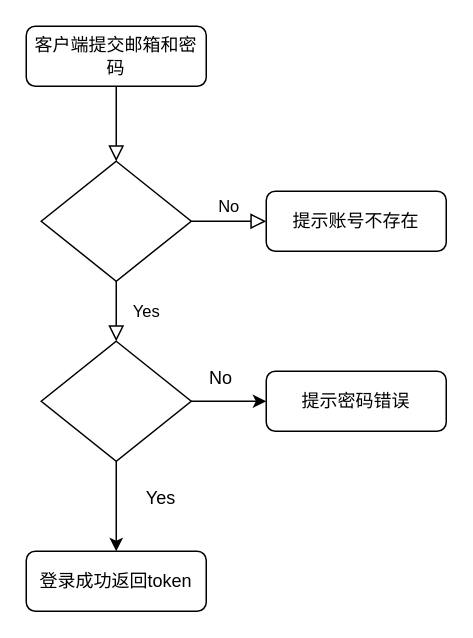
This 473x638 diagram has some shape labels left out. Here are the shapes that lost their labels. From the top down, the centre of each, then its label:
the point at 115,220: 判断邮箱是否存在
the point at 115,400: 判断账号密码是否正确
